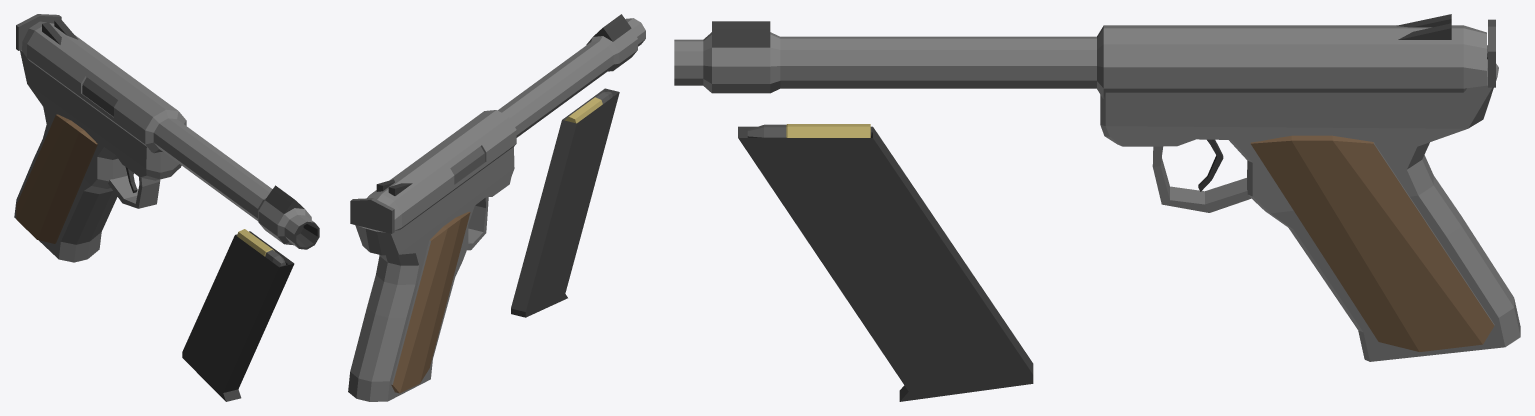
File: Ruger2222.fbx
3 views of the same model, side by side, from view 1: azimuth 30°, elevation 25°; view 2: azimuth 150°, elevation 25°; view 3: azimuth 270°, elevation 25° (orthographic). The views are drawn at different scales.
Parts seen in each view (by area): view 1: .22 Grip, .22 Magazine, ,22 Feeder, .22; view 2: .22 Grip, .22 Magazine, ,22 Feeder, .22; view 3: .22 Grip, .22 Magazine, .22.
Part boxes in pixels (x1,y1,x2,y2): .22 Grip: [14, 19, 319, 262]; .22 Magazine: [182, 231, 294, 401]; ,22 Feeder: [16, 14, 117, 116]; .22: [237, 229, 285, 266]; .22 Grip: [348, 14, 645, 401]; .22 Magazine: [511, 88, 619, 317]; ,22 Feeder: [350, 146, 485, 233]; .22: [565, 91, 612, 123]; .22 Grip: [674, 14, 1520, 361]; .22 Magazine: [738, 126, 1033, 401]; .22: [747, 124, 870, 137].
Bounding box in the file's own units: 109 × 502 × 1028.
